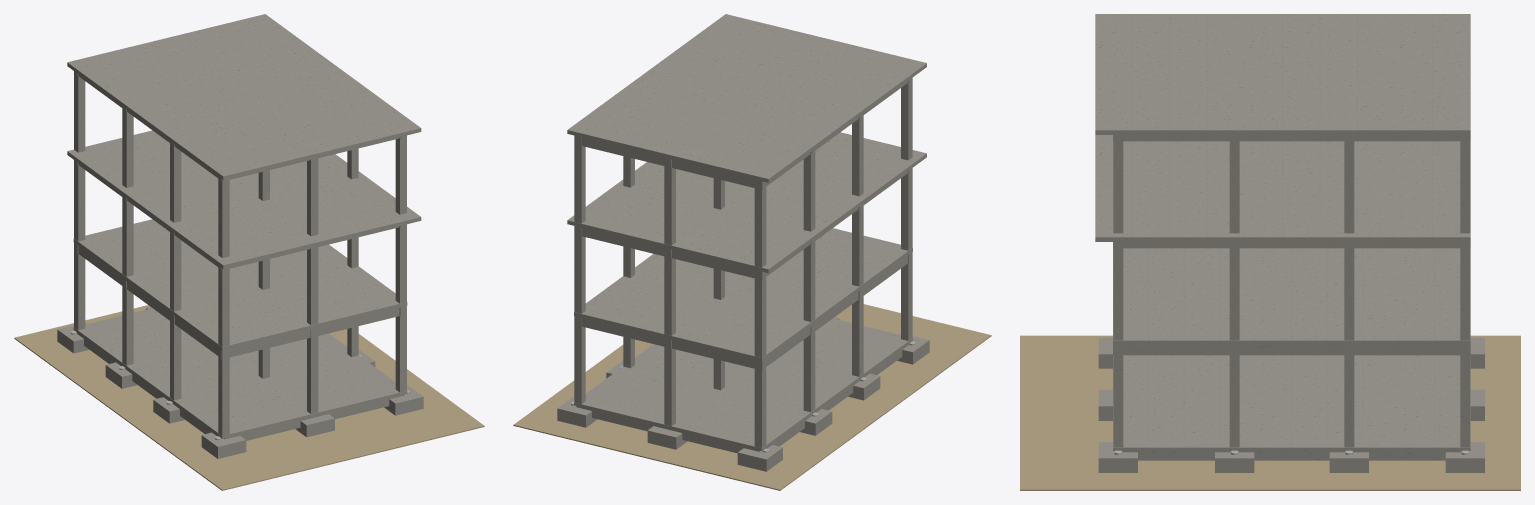
File: phase-2.glb
3 renders of one model, left to right at view 1: azimuth 30°, elevation 25°; view 2: azimuth 150°, elevation 25°; view 3: azimuth 270°, elevation 25°, orthographic. The views are drawn at different scales.
Size of the model in its own units: 10.2 by 10.54 by 14.
3 materials, 1 textured.
